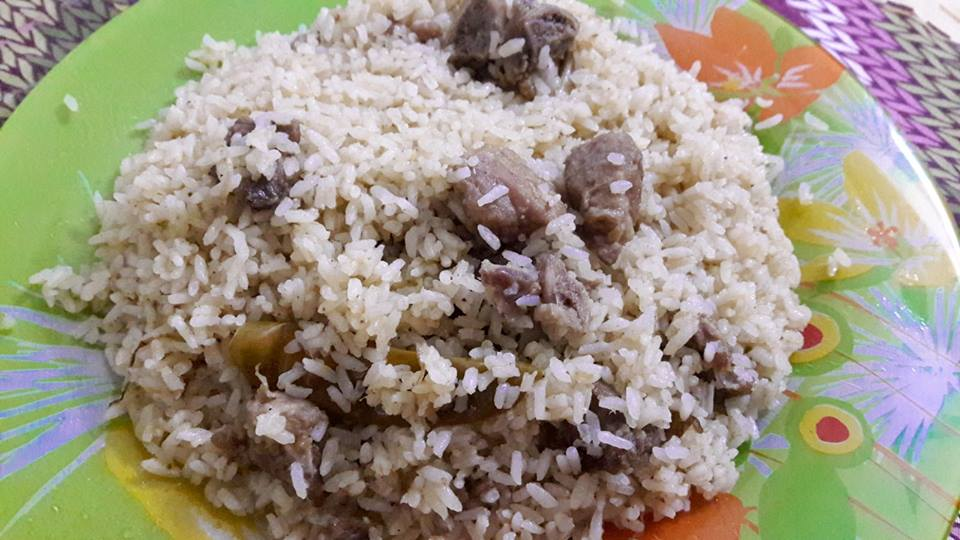tehari: (54, 4, 813, 540)
